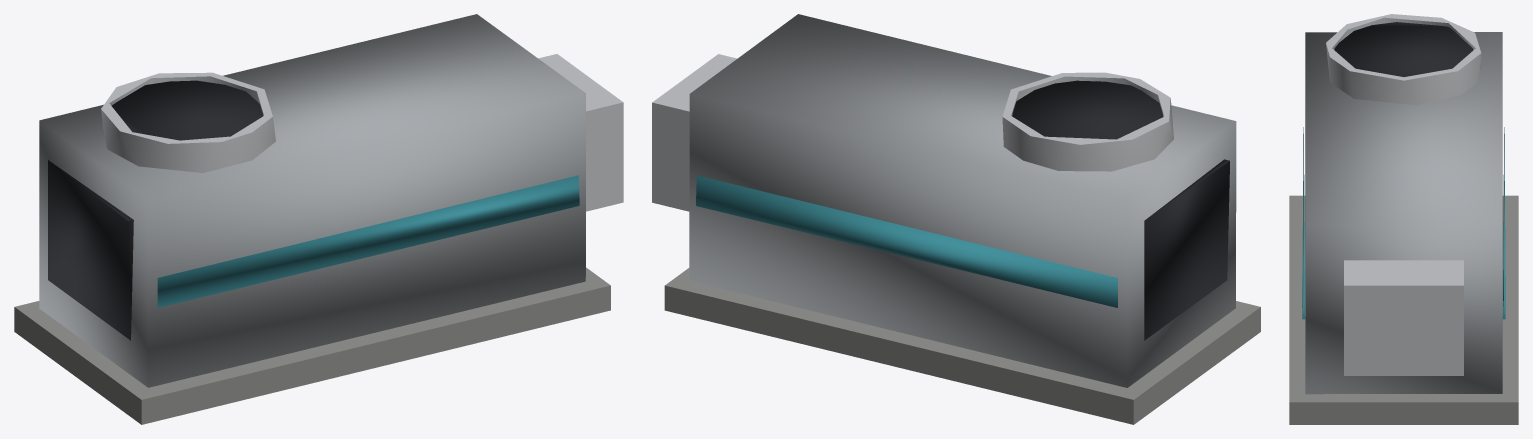
File: ahu_LOD1.glb
3 renders of one model, left to right at view 1: azimuth 30°, elevation 25°; view 2: azimuth 150°, elevation 25°; view 3: azimuth 270°, elevation 25°, orthographic. The views are drawn at different scales.
Parts seen in each view (by area): view 1: Body_LOD1; view 2: Body_LOD1; view 3: Body_LOD1.
Boxes of the visible parts, x1,y1,x2,y2 form: Body_LOD1: (14, 14, 623, 424); Body_LOD1: (652, 14, 1260, 424); Body_LOD1: (1289, 14, 1518, 424).
Size of the model in its own units: 5.35 by 2.43 by 2.3.
